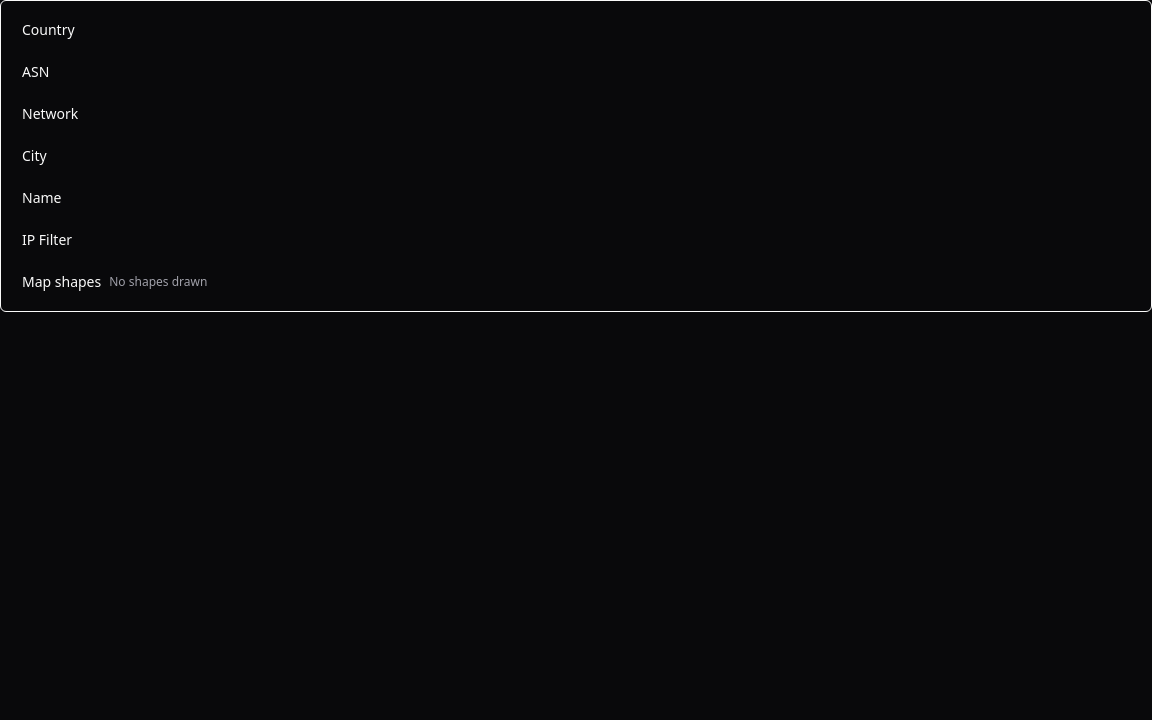
FilterRail › caps facet list at 50 entries after search filter
Click the heading "City".
click(34, 156)  # box [22,146,47,165]
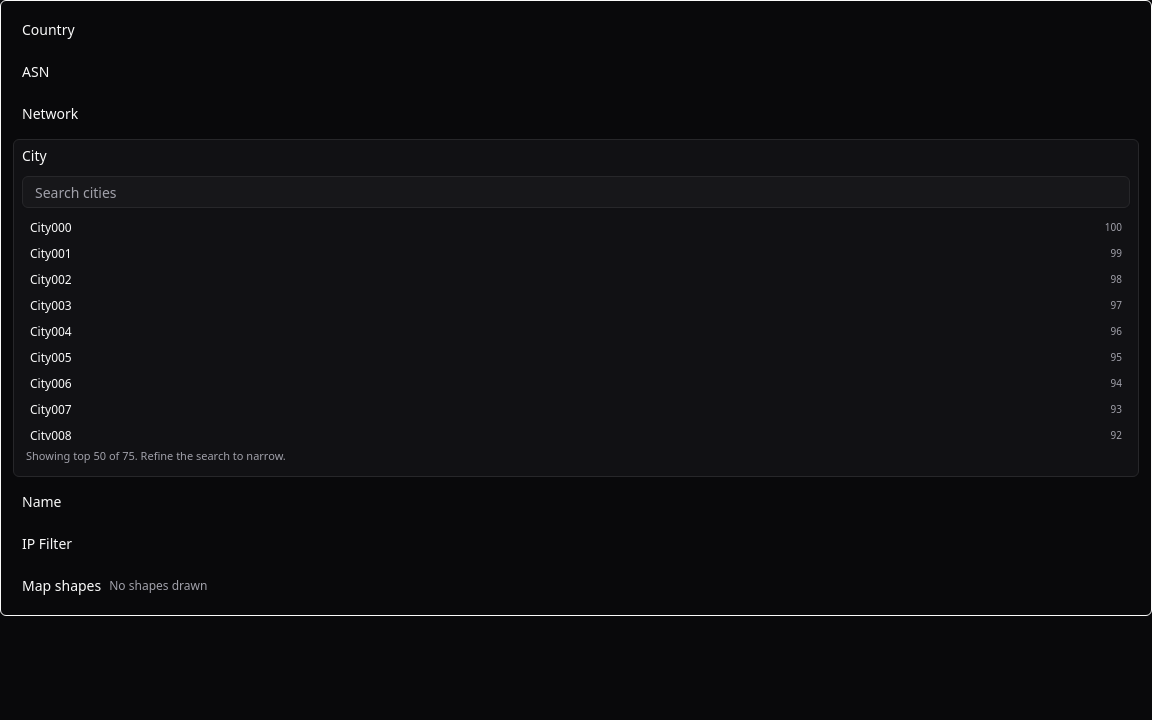
Check: the number of buttons "City000 100" is 50
Check: the text "Showing top 50 of 75. Refine the search to narrow." is shown, box [26,448,286,463]
